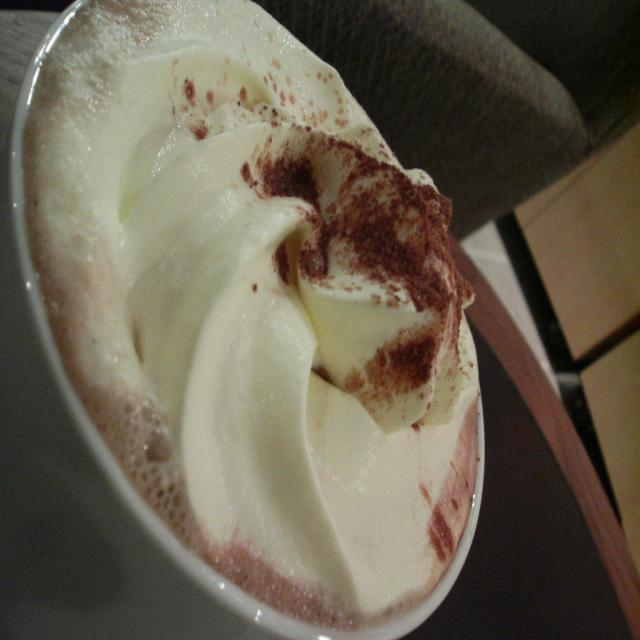Coffee: (25, 0, 517, 640)
